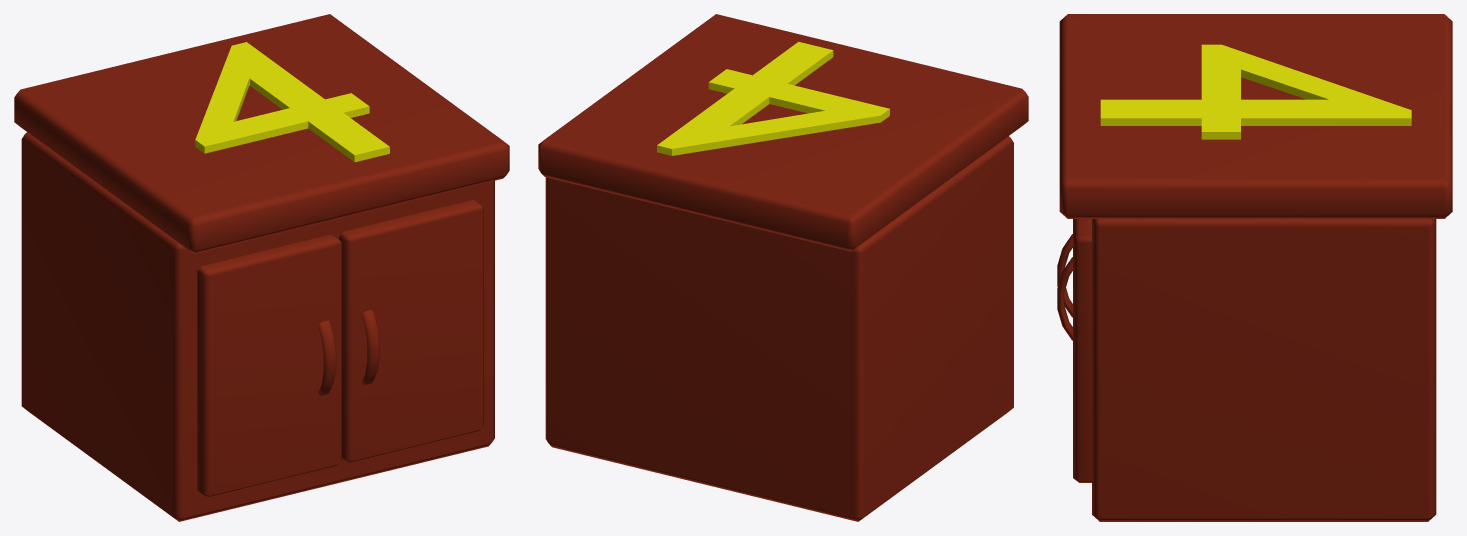
The picture shows the model from 3 angles, left to right: view 1: azimuth 30°, elevation 25°; view 2: azimuth 150°, elevation 25°; view 3: azimuth 270°, elevation 25°; orthographic projection. The views are drawn at different scales.
Visible parts, largest first — view 1: Cube.004, Text.003; view 2: Cube.004, Text.003; view 3: Cube.004, Text.003.
Boxes of the visible parts, left/top/right/bottom form: Cube.004: left=14, top=14, right=509, bottom=521; Text.003: left=195, top=42, right=389, bottom=162; Cube.004: left=538, top=14, right=1028, bottom=521; Text.003: left=657, top=41, right=889, bottom=155; Cube.004: left=1057, top=14, right=1452, bottom=521; Text.003: left=1100, top=44, right=1411, bottom=139.
Bounding box in the file's own units: 89.87 × 86.2 × 87.83.
